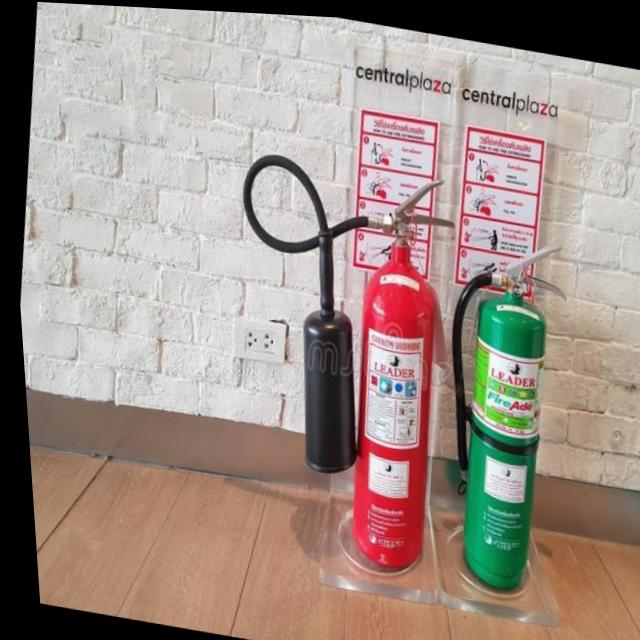FireExtinguisher: (185, 124, 483, 588), (405, 212, 588, 599)
